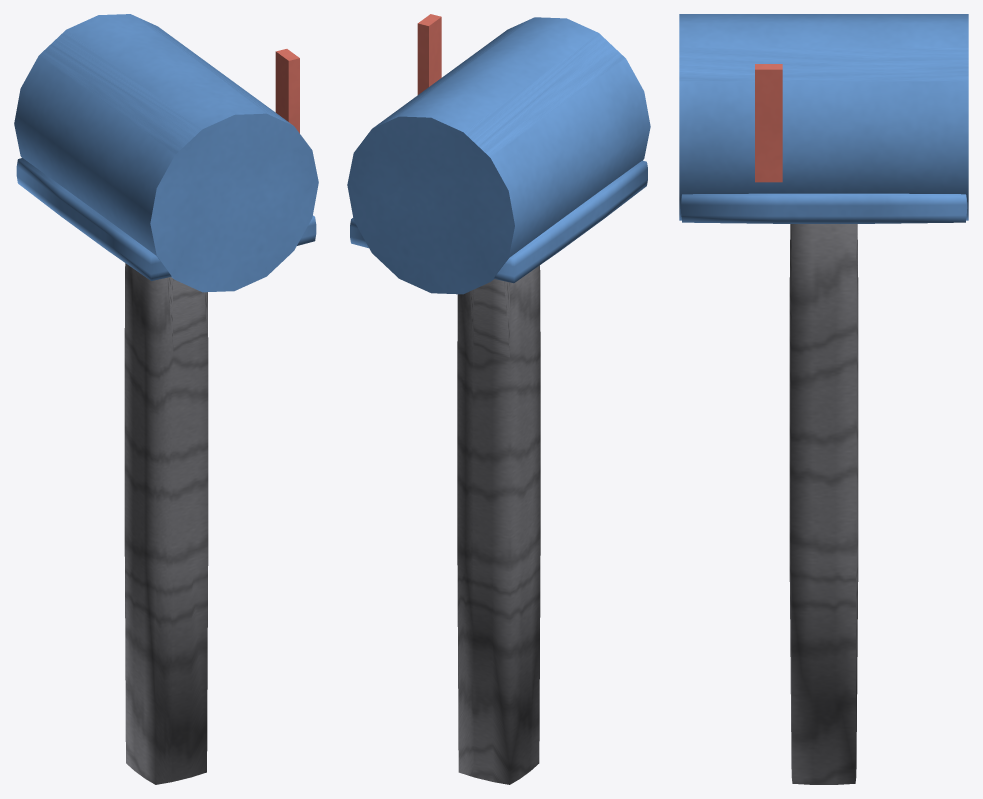
The model's file is mailbox.glb.
The picture shows the model from 3 angles, left to right: view 1: azimuth 30°, elevation 25°; view 2: azimuth 150°, elevation 25°; view 3: azimuth 270°, elevation 25°; orthographic projection. The views are drawn at different scales.
Visible parts, largest first — view 1: mailbox_body; view 2: mailbox_body; view 3: mailbox_body.
Part boxes in pixels (left/top/right/bottom): mailbox_body: left=14, top=14, right=318, bottom=784; mailbox_body: left=347, top=14, right=650, bottom=784; mailbox_body: left=679, top=14, right=968, bottom=784.
Bounding box in the file's own units: 0.33 × 1.21 × 0.42.
Materials: 3 (3 with a texture image).
